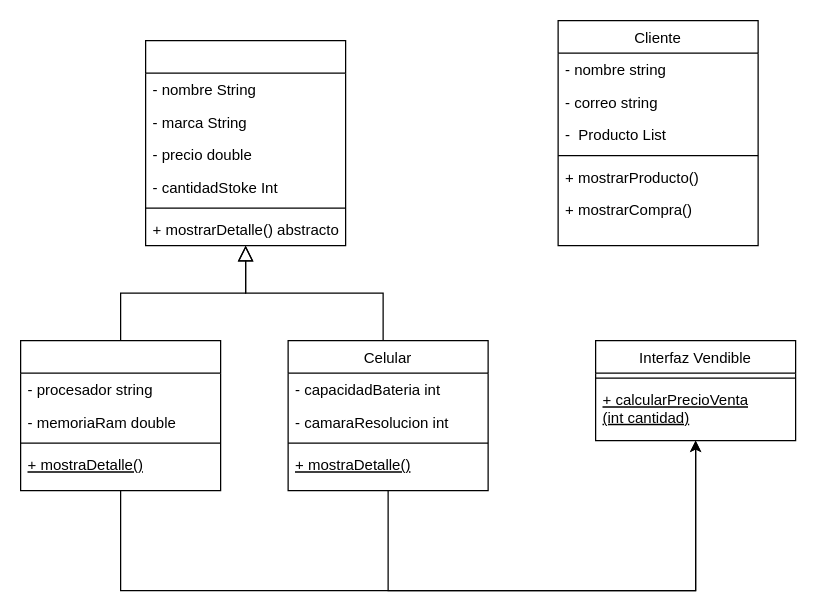
This 816x611 diagram has some shape labels left out. Each missing label, with the box of its shape:
abstract Producto: (144, 39, 346, 246)
Laptop: (19, 339, 221, 491)
